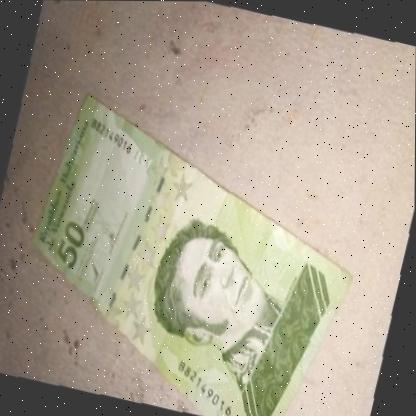fifty-front-vef: (0, 85, 380, 416)
